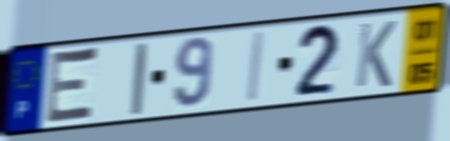2: (291, 20, 345, 104)
9: (172, 34, 215, 112)
E: (42, 44, 101, 127)
I: (245, 28, 268, 106), (129, 40, 150, 119)
K: (353, 18, 399, 90)
